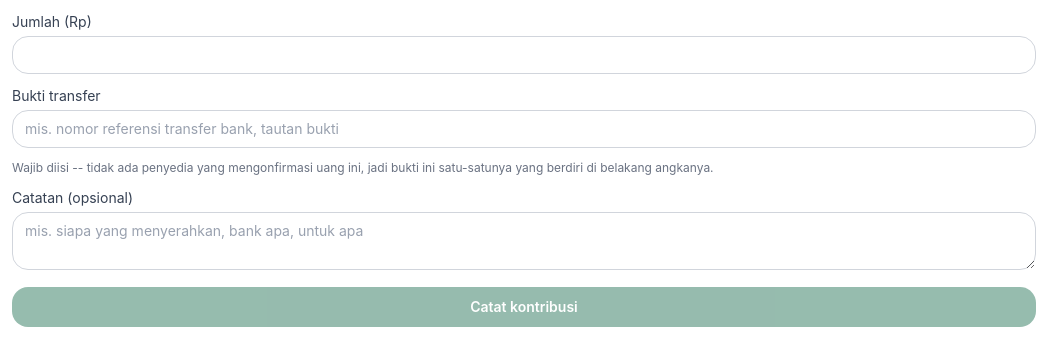
Test case: AdminManualContributionCreateForm › disables the button until amount and proof are filled in
This screenshot has width=1048, height=344.
Expected: the button "Catat kontribusi" is disabled, x1=12 y1=287 x2=1036 y2=327
Type "250000" into the field labelled "Jumlah (Rp)" at (524, 55), box x1=12 y1=36 x2=1036 y2=74
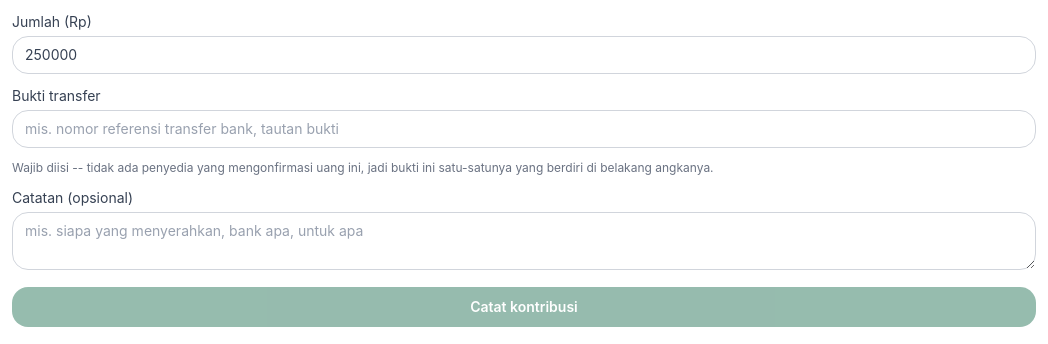
Type "bukti.pdf" into the field labelled "Bukti transfer" at (524, 129), box x1=12 y1=110 x2=1036 y2=148
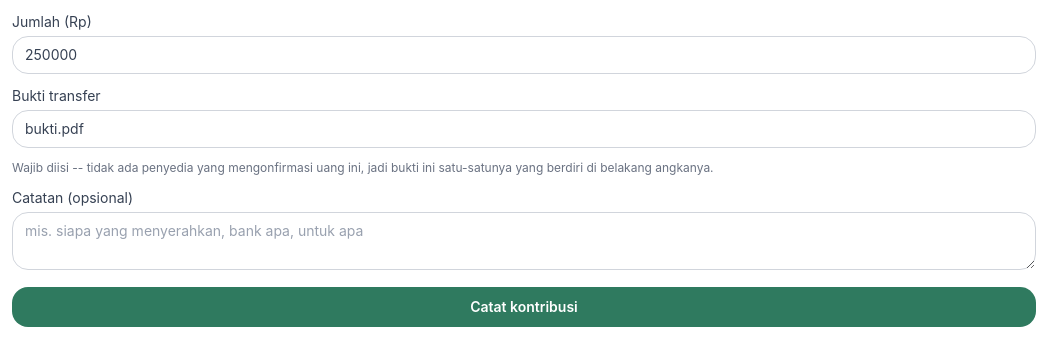
Expected: the button "Catat kontribusi" is enabled, x1=12 y1=287 x2=1036 y2=327
